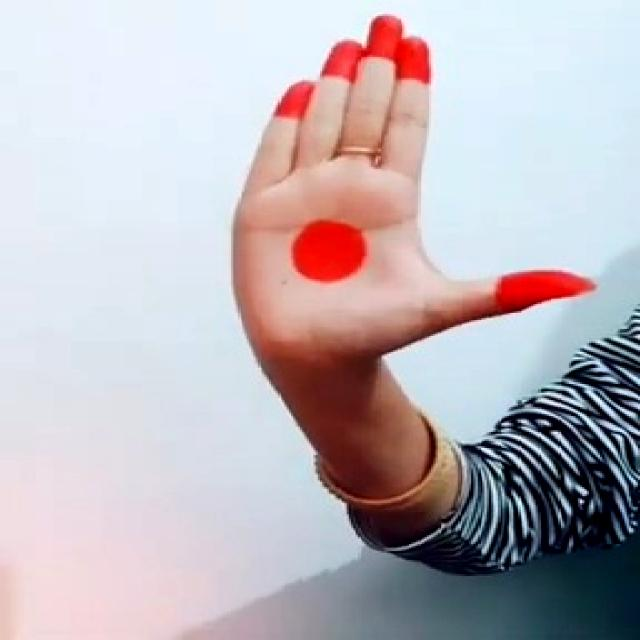Ardhachandra: (216, 11, 610, 352)
bangle: (299, 418, 466, 519)
